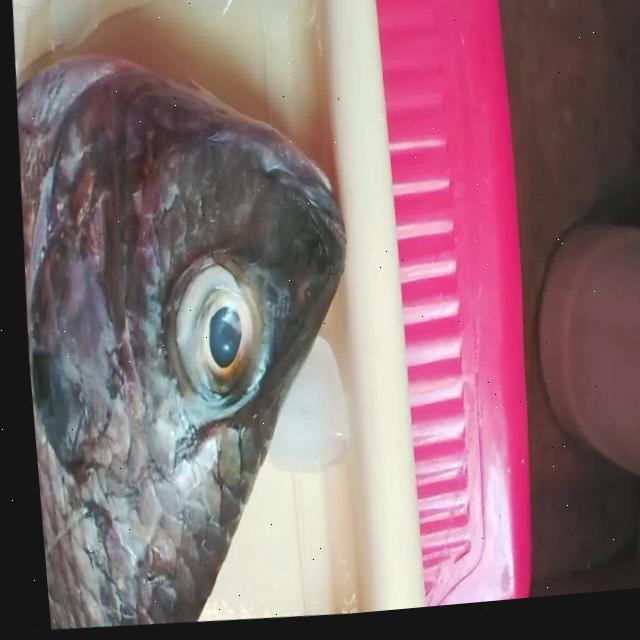Fresh: (139, 237, 272, 461)
